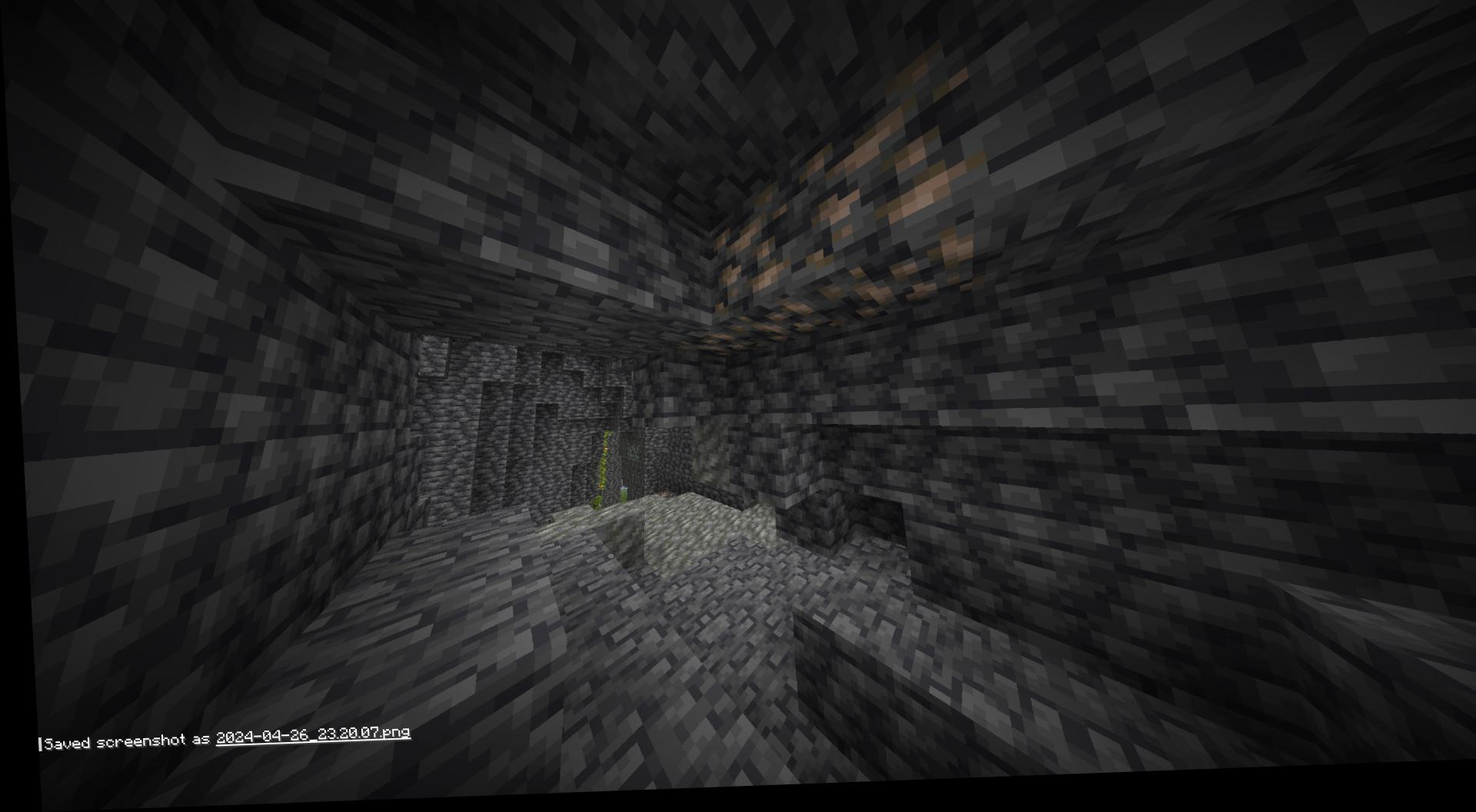iron ore: (794, 70, 966, 248), (826, 226, 986, 322), (702, 196, 793, 306), (693, 301, 815, 368)
